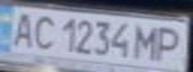1: (54, 15, 78, 53)
2: (72, 16, 96, 55)
3: (90, 18, 115, 57)
4: (109, 19, 136, 60)
A: (3, 9, 39, 48)
C: (27, 12, 57, 51)
M: (130, 21, 163, 62)
P: (151, 24, 187, 64)
